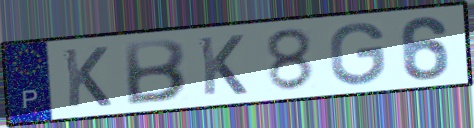6: (398, 14, 451, 82)
8: (263, 26, 315, 92)
B: (123, 37, 188, 107)
G: (327, 20, 387, 87)
K: (196, 33, 250, 98), (60, 45, 114, 110)
